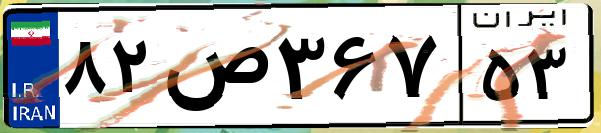2: (110, 28, 158, 98)
3: (270, 28, 330, 110), (525, 38, 570, 115)
5: (475, 38, 525, 113)
6: (330, 28, 385, 110)
7: (385, 28, 445, 110)
8: (57, 26, 110, 100)
ص: (158, 20, 270, 120)
